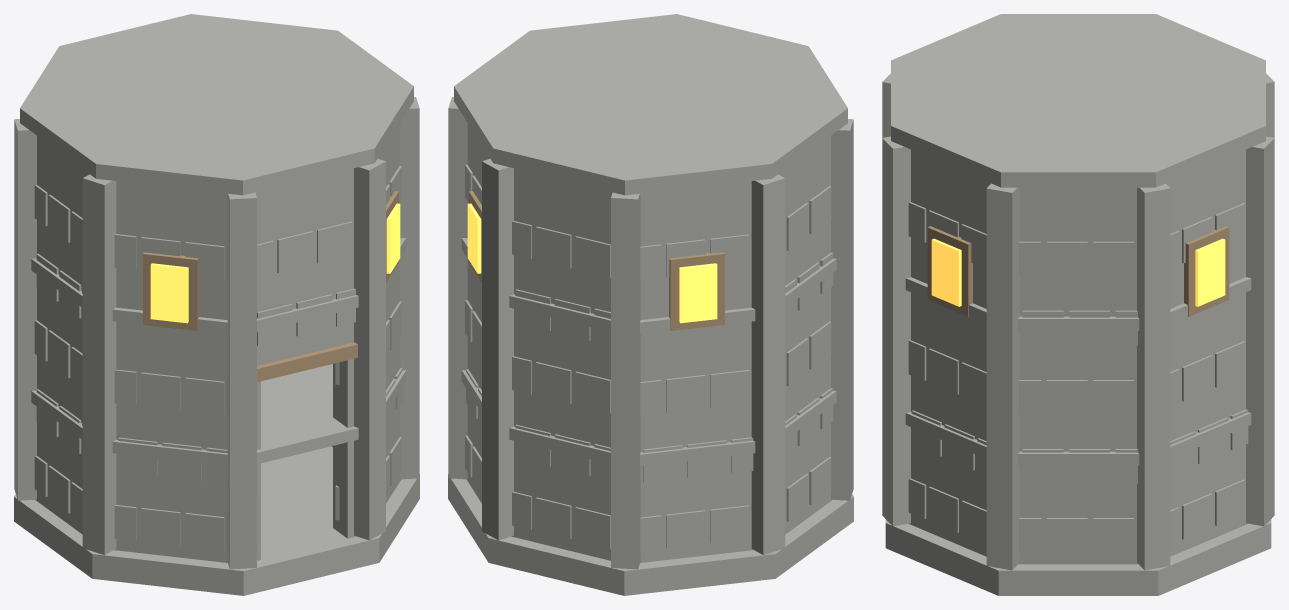
Rendered from wipe-day-survival-island-lighthouse-base-stage-120d0c52__27502.glb.
The picture shows the model from 3 angles, left to right: view 1: azimuth 30°, elevation 25°; view 2: azimuth 150°, elevation 25°; view 3: azimuth 270°, elevation 25°; orthographic projection. The views are drawn at different scales.
Visible parts, largest first — view 1: lighthouse-base-stage; view 2: lighthouse-base-stage; view 3: lighthouse-base-stage.
Part boxes in pixels (x1=…): lighthouse-base-stage: x1=14, y1=14, x2=419, y2=595; lighthouse-base-stage: x1=448, y1=14, x2=853, y2=595; lighthouse-base-stage: x1=882, y1=14, x2=1274, y2=595.
Bounding box in the file's own units: 4.22 × 5 × 4.22.
